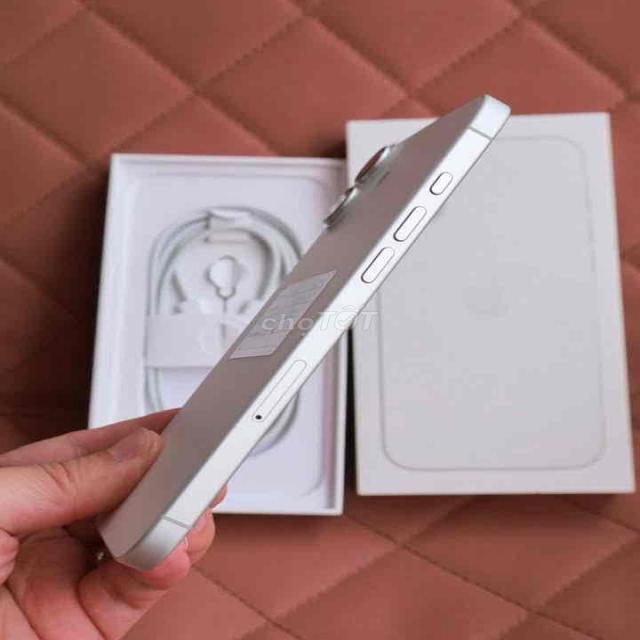gen_16: (96, 91, 544, 579)
